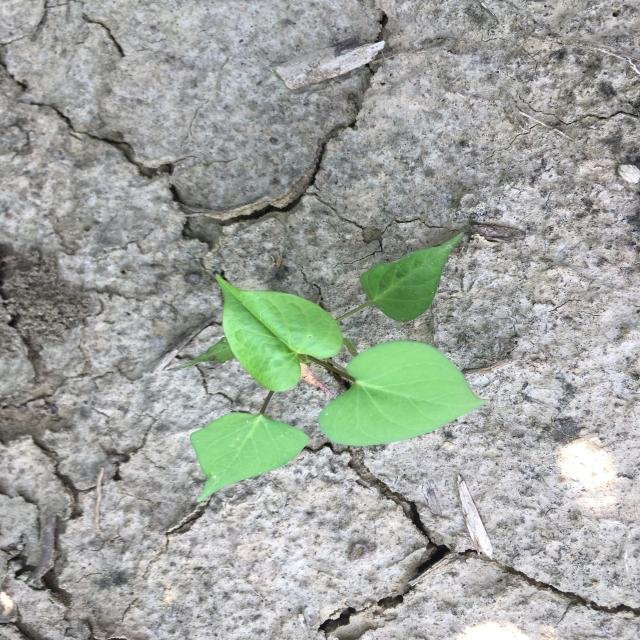MorningGlory: (168, 231, 489, 503)
